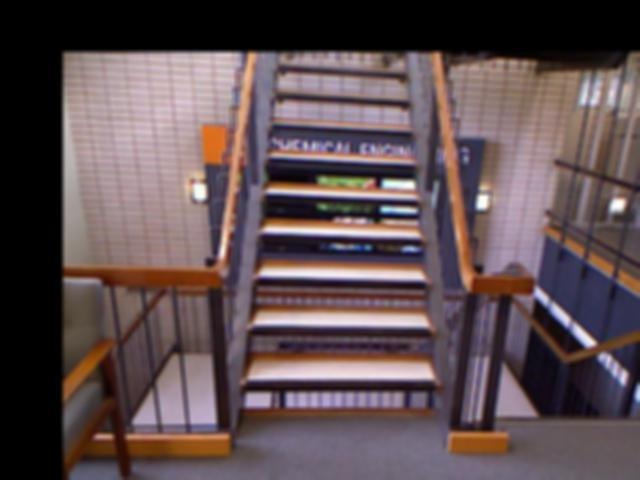Escaleras: (248, 75, 442, 403), (461, 367, 640, 458)
